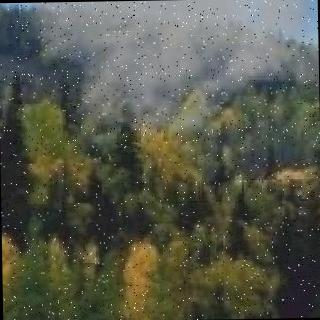smoke: (46, 0, 320, 160)
